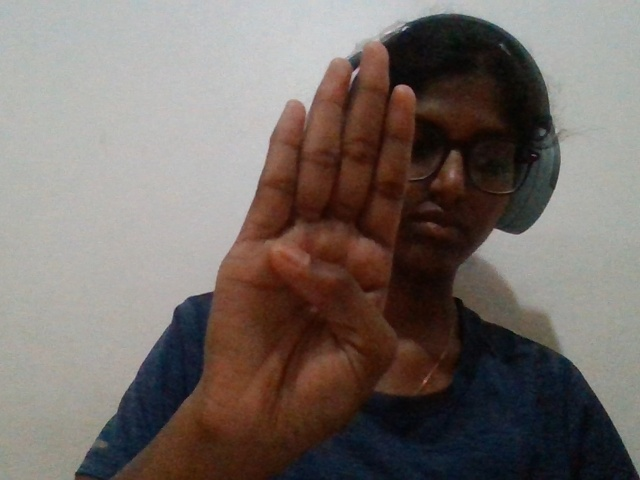B: (158, 28, 430, 480)
